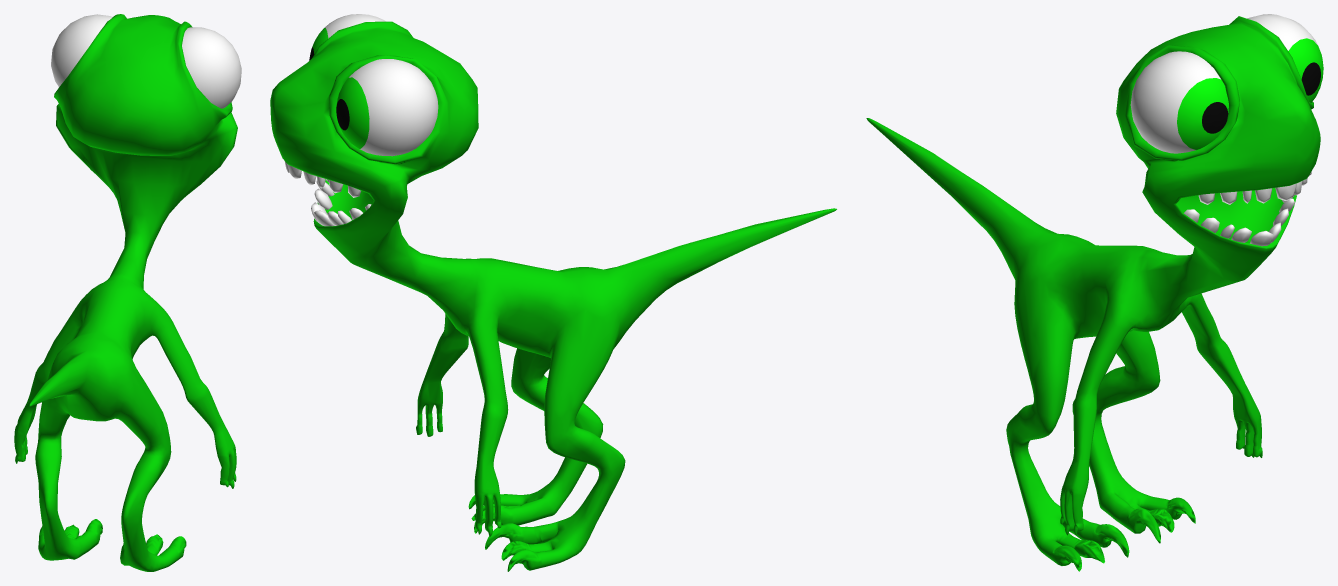
Rendered from dino.obj.
3 renders of one model, left to right at view 1: azimuth 30°, elevation 25°; view 2: azimuth 150°, elevation 25°; view 3: azimuth 270°, elevation 25°, orthographic. The views are drawn at different scales.
Parts seen in each view (by area): view 1: polySurface34_Malla; view 2: polySurface34_Malla; view 3: polySurface34_Malla.
Part boxes in pixels (x1=…): polySurface34_Malla: x1=14, y1=14, x2=241, y2=571; polySurface34_Malla: x1=270, y1=14, x2=836, y2=571; polySurface34_Malla: x1=866, y1=14, x2=1323, y2=571.
Bounding box in the file's own units: 69.03 × 91.14 × 68.5.
